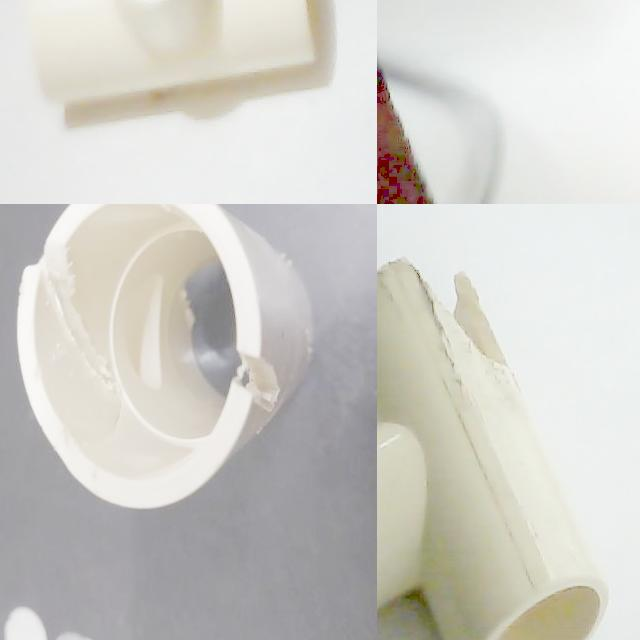Defective: (21, 243, 126, 419), (402, 256, 514, 372), (224, 328, 278, 456), (129, 204, 182, 230)
T Joint: (377, 258, 610, 640), (29, 0, 325, 105)
